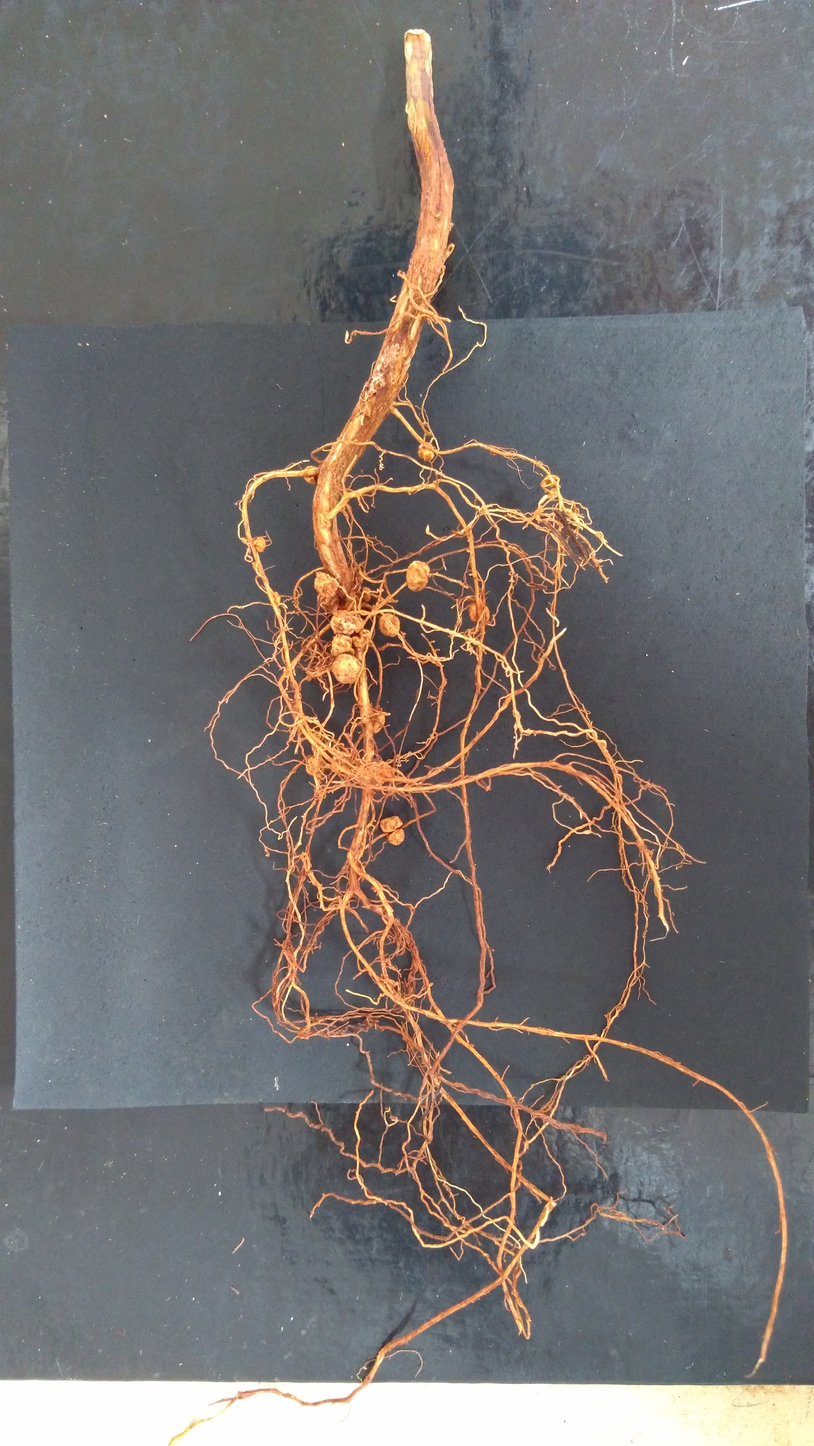nodule: (332, 653, 362, 683), (406, 560, 430, 592), (380, 815, 405, 845), (331, 614, 364, 635), (314, 571, 339, 597), (365, 760, 395, 778), (331, 634, 355, 656), (378, 613, 400, 636), (317, 591, 340, 610), (469, 603, 490, 622), (306, 756, 324, 778), (346, 587, 363, 610), (540, 474, 561, 492), (331, 755, 352, 771), (352, 629, 370, 647), (418, 442, 434, 461), (372, 711, 385, 733), (304, 466, 319, 484), (317, 511, 331, 529), (253, 537, 265, 552), (425, 312, 438, 324), (270, 592, 281, 604), (362, 587, 371, 601), (598, 739, 607, 748), (439, 265, 446, 274), (444, 250, 451, 258), (371, 884, 377, 893), (449, 223, 453, 232), (241, 538, 247, 543), (247, 548, 251, 554)
